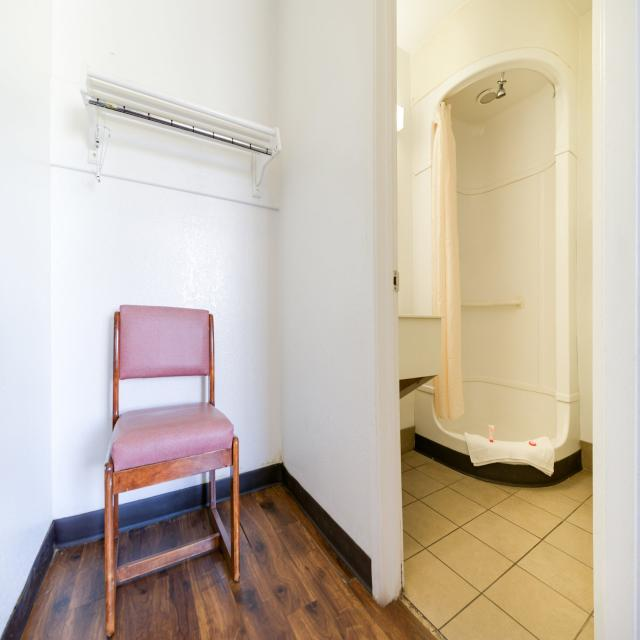Chair: (101, 298, 244, 640)
